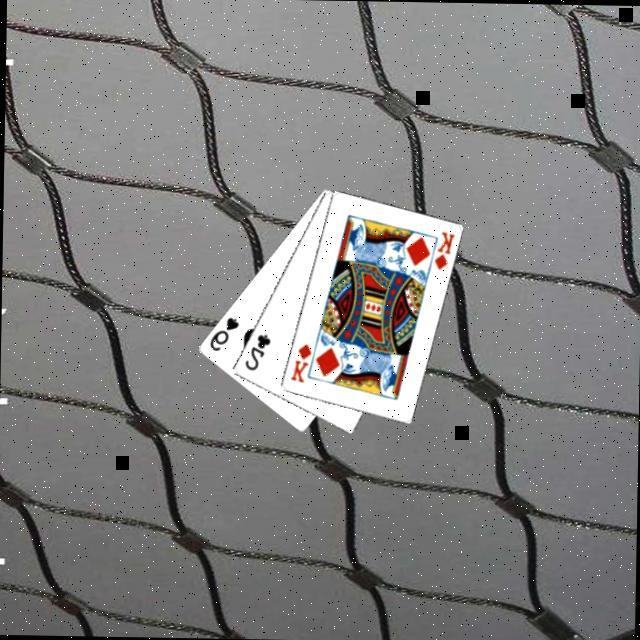2C: (242, 332, 274, 375)
6S: (206, 316, 241, 357)
KD: (287, 342, 314, 388), (431, 231, 458, 274)
